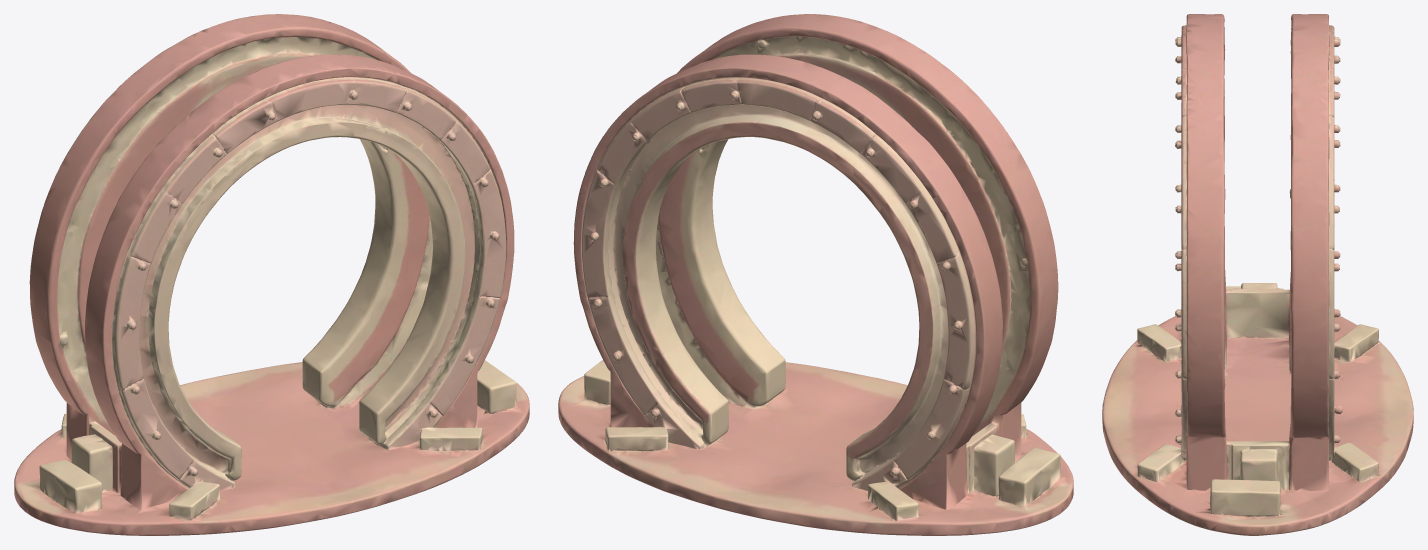
3 views of the same model, side by side, from view 1: azimuth 30°, elevation 25°; view 2: azimuth 150°, elevation 25°; view 3: azimuth 270°, elevation 25° (orthographic). The views are drawn at different scales.
Bounding box in the file's own units: 1.9 × 1.51 × 1.1.
Materials: 1 (1 with a texture image).
